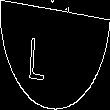L_N: (45, 28, 65, 82)
